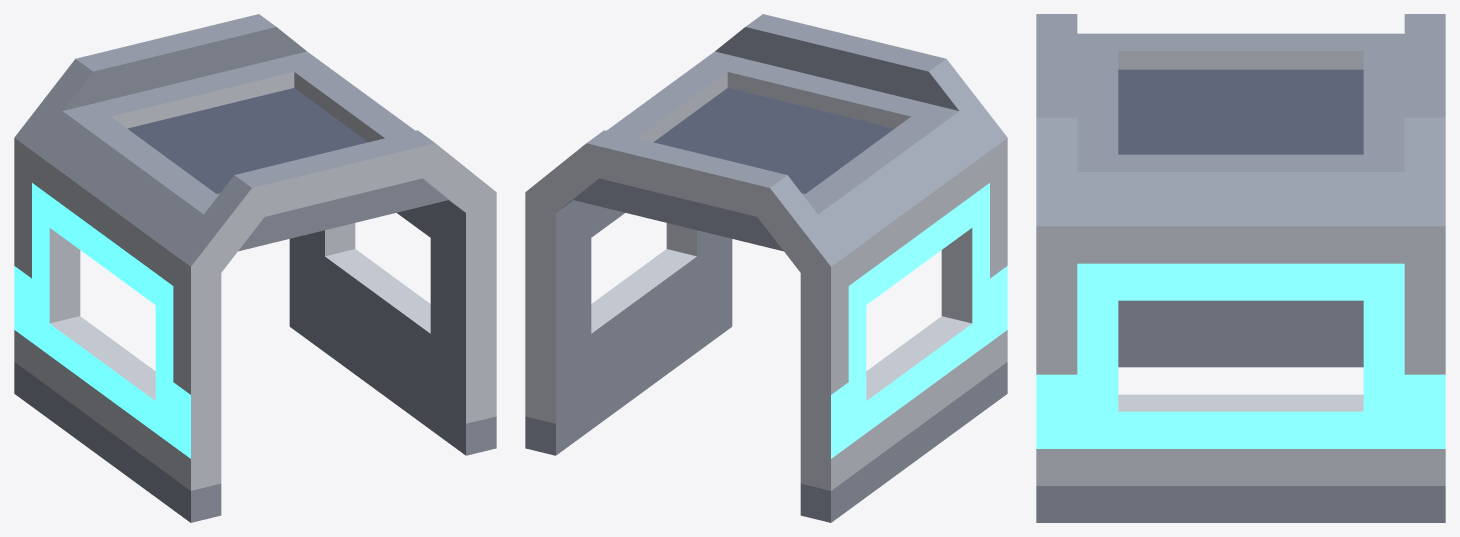
File: corridor_window.glb
3 renders of one model, left to right at view 1: azimuth 30°, elevation 25°; view 2: azimuth 150°, elevation 25°; view 3: azimuth 270°, elevation 25°, orthographic. The views are drawn at different scales.
Visible parts, largest first — view 1: corridor_window; view 2: corridor_window; view 3: corridor_window.
Part boxes in pixels (x1,y1,x2,y2): corridor_window: (14, 14, 496, 522); corridor_window: (525, 14, 1007, 522); corridor_window: (1036, 14, 1445, 522).
Bounding box in the file's own units: 1 × 1 × 1.
